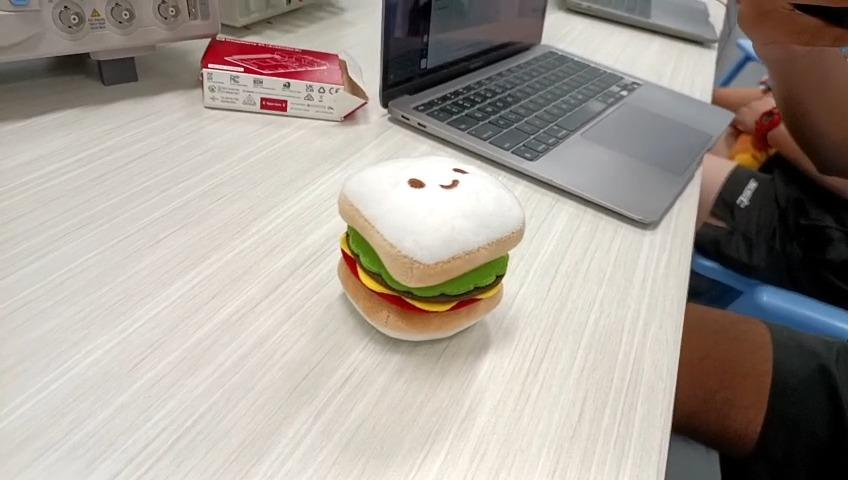objects: (339, 153, 526, 347)
